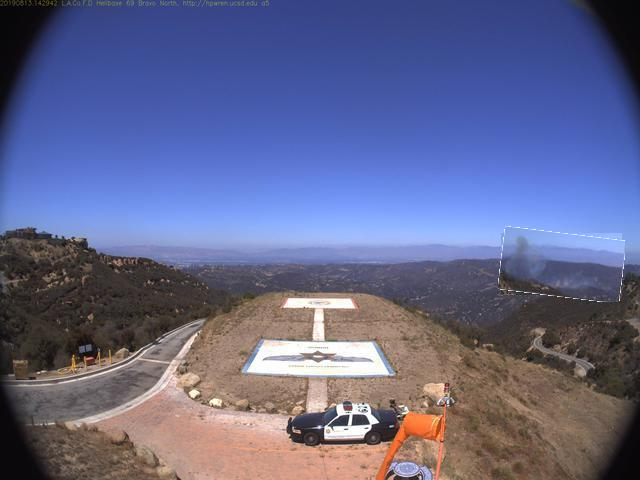smoke: (501, 231, 626, 301)
